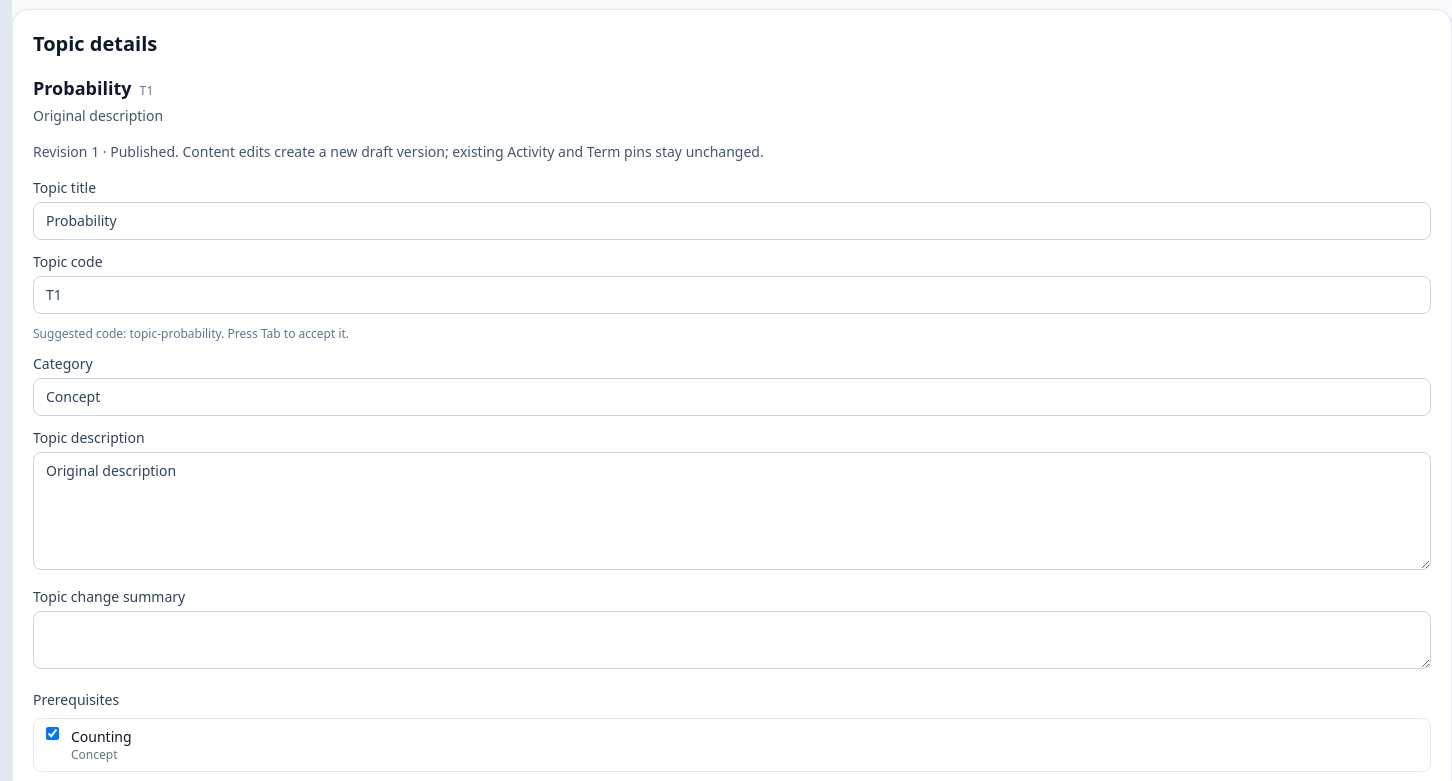
it: TopicWorkspacePage › does not change prerequisites when Topic version creation fails
Expected: the field showing "Probability" is shown, [33, 202, 1431, 240]
Replace the text in the text box labelled "Topic description" with "New description": x=732, y=511 [33, 452, 1431, 570]
(page scrolled)
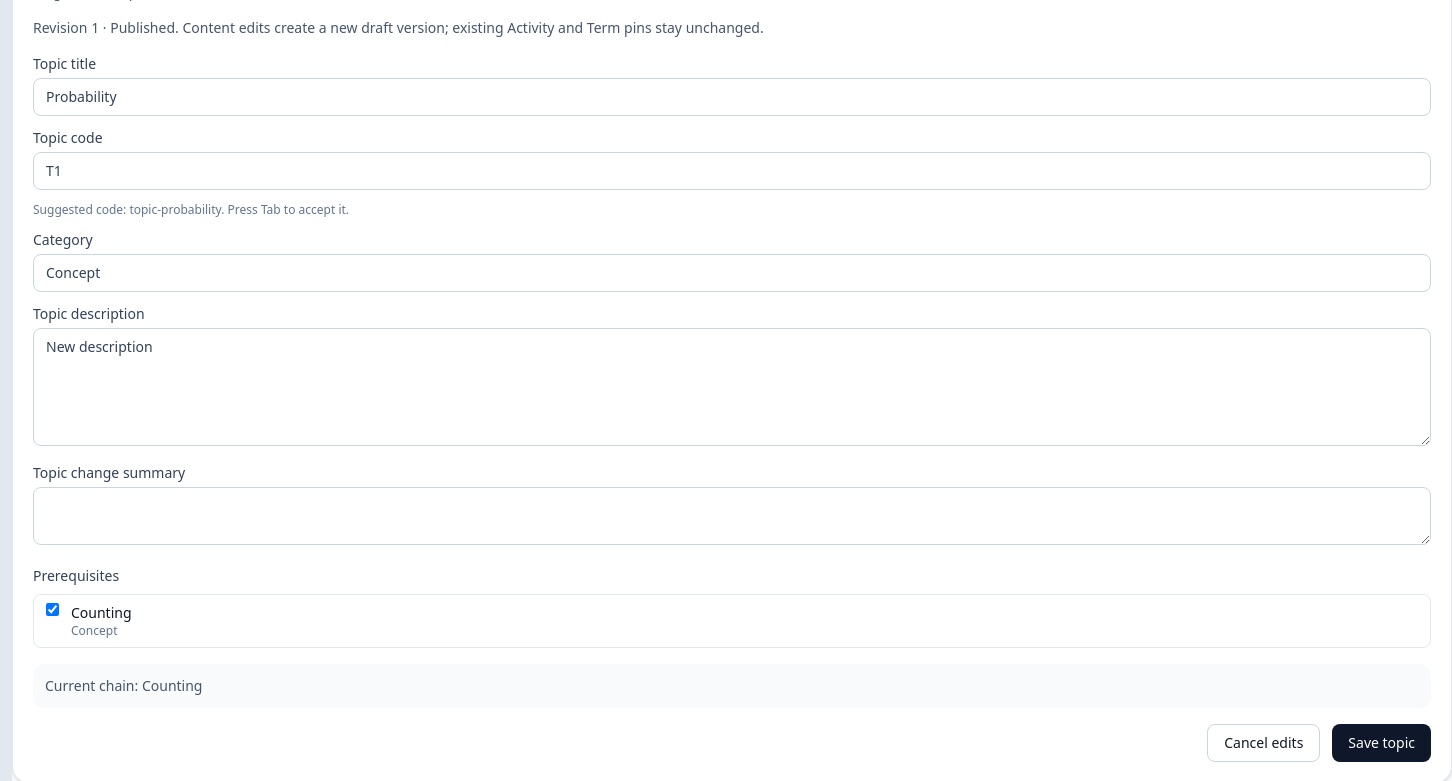
Click the button "Save topic": x=1382, y=743 [1332, 724, 1431, 762]
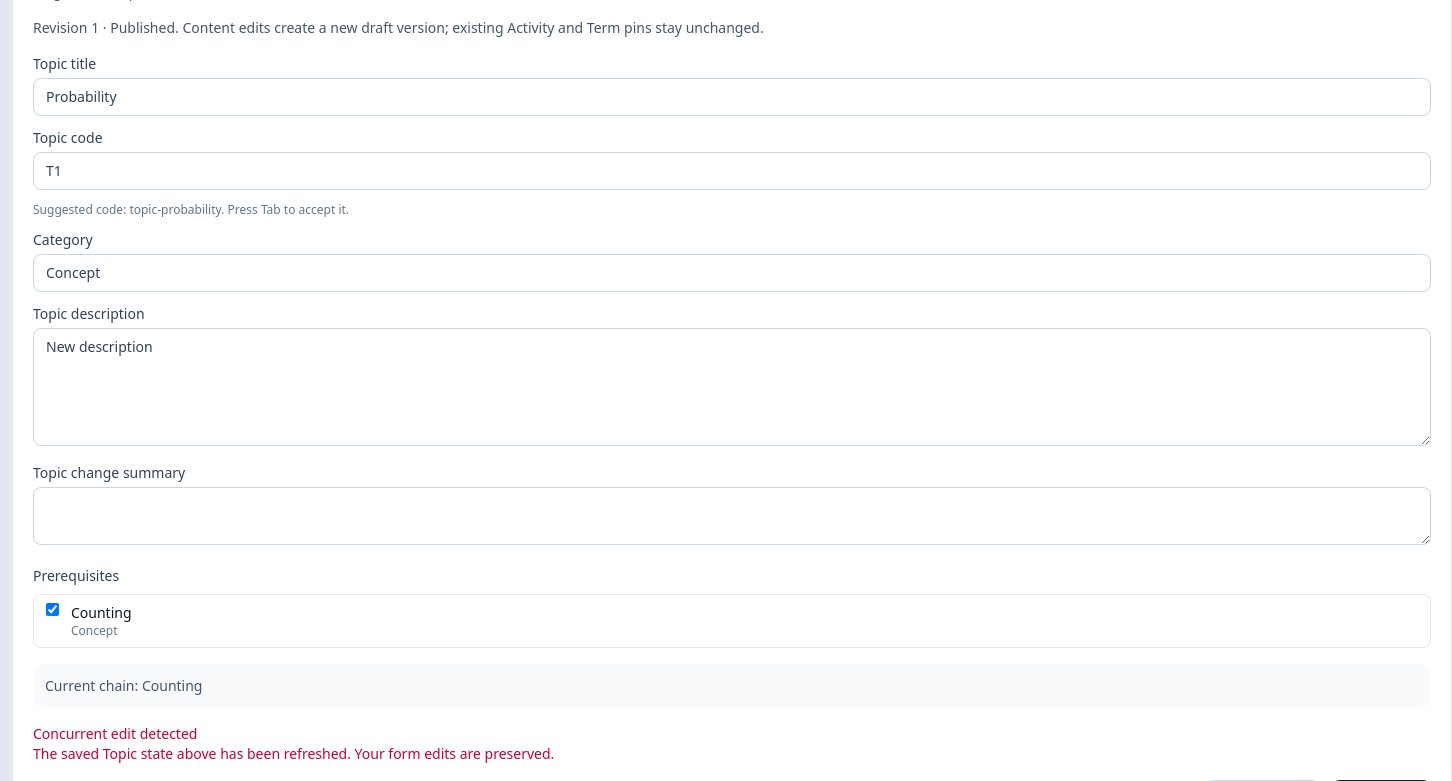
Expected: the message that starts with "Concurrent edit detected" is shown, [33, 724, 197, 743]
